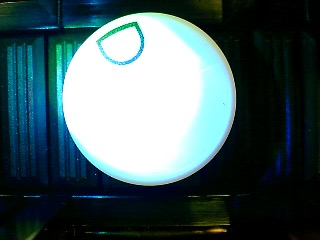MIPO1: (62, 12, 237, 186)
